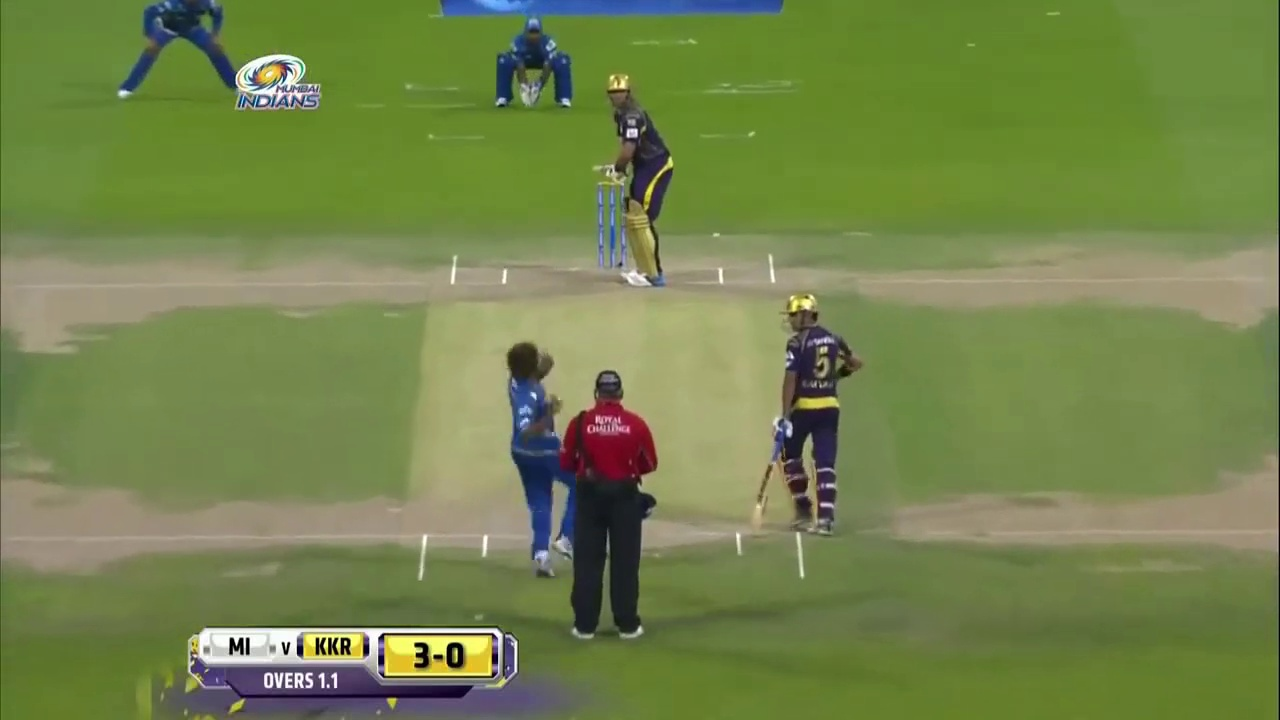bat: (750, 453, 781, 532)
